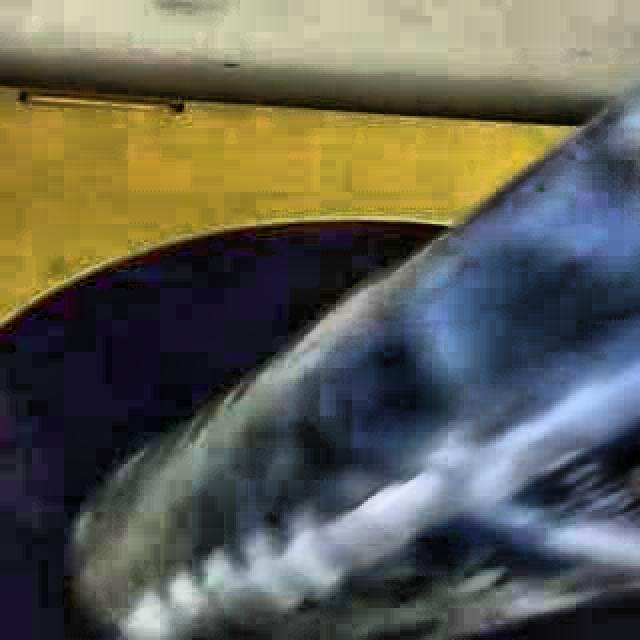plastic: (75, 92, 640, 640)
